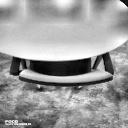chair_success: (12, 55, 112, 85)
